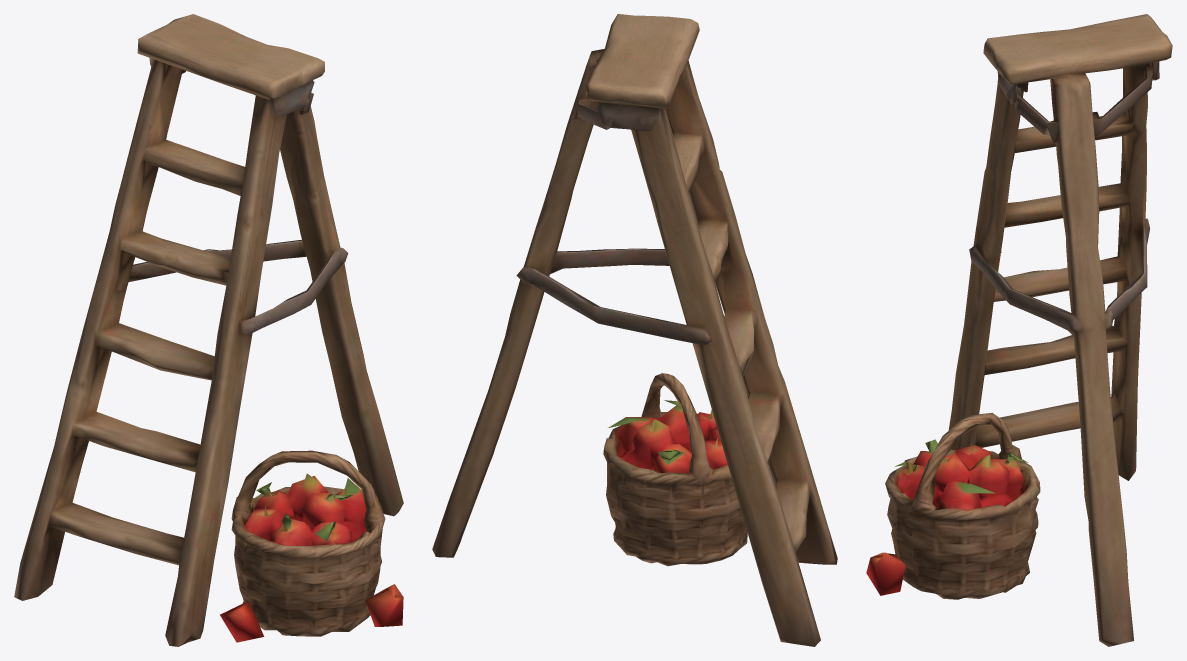
File: apple_ladder.glb
3 renders of one model, left to right at view 1: azimuth 30°, elevation 25°; view 2: azimuth 150°, elevation 25°; view 3: azimuth 270°, elevation 25°, orthographic. The views are drawn at different scales.
Visible parts, largest first — view 1: tripo_node_0afb2111-94e0-4160-9215-57178eff151b; view 2: tripo_node_0afb2111-94e0-4160-9215-57178eff151b; view 3: tripo_node_0afb2111-94e0-4160-9215-57178eff151b.
Boxes of the visible parts, x1,y1,x2,y2 form: tripo_node_0afb2111-94e0-4160-9215-57178eff151b: [14, 14, 403, 646]; tripo_node_0afb2111-94e0-4160-9215-57178eff151b: [432, 14, 837, 646]; tripo_node_0afb2111-94e0-4160-9215-57178eff151b: [866, 14, 1172, 646].
Size of the model in its own units: 0.7383 by 0.9879 by 0.5192.
Materials: 1 (1 with a texture image).
